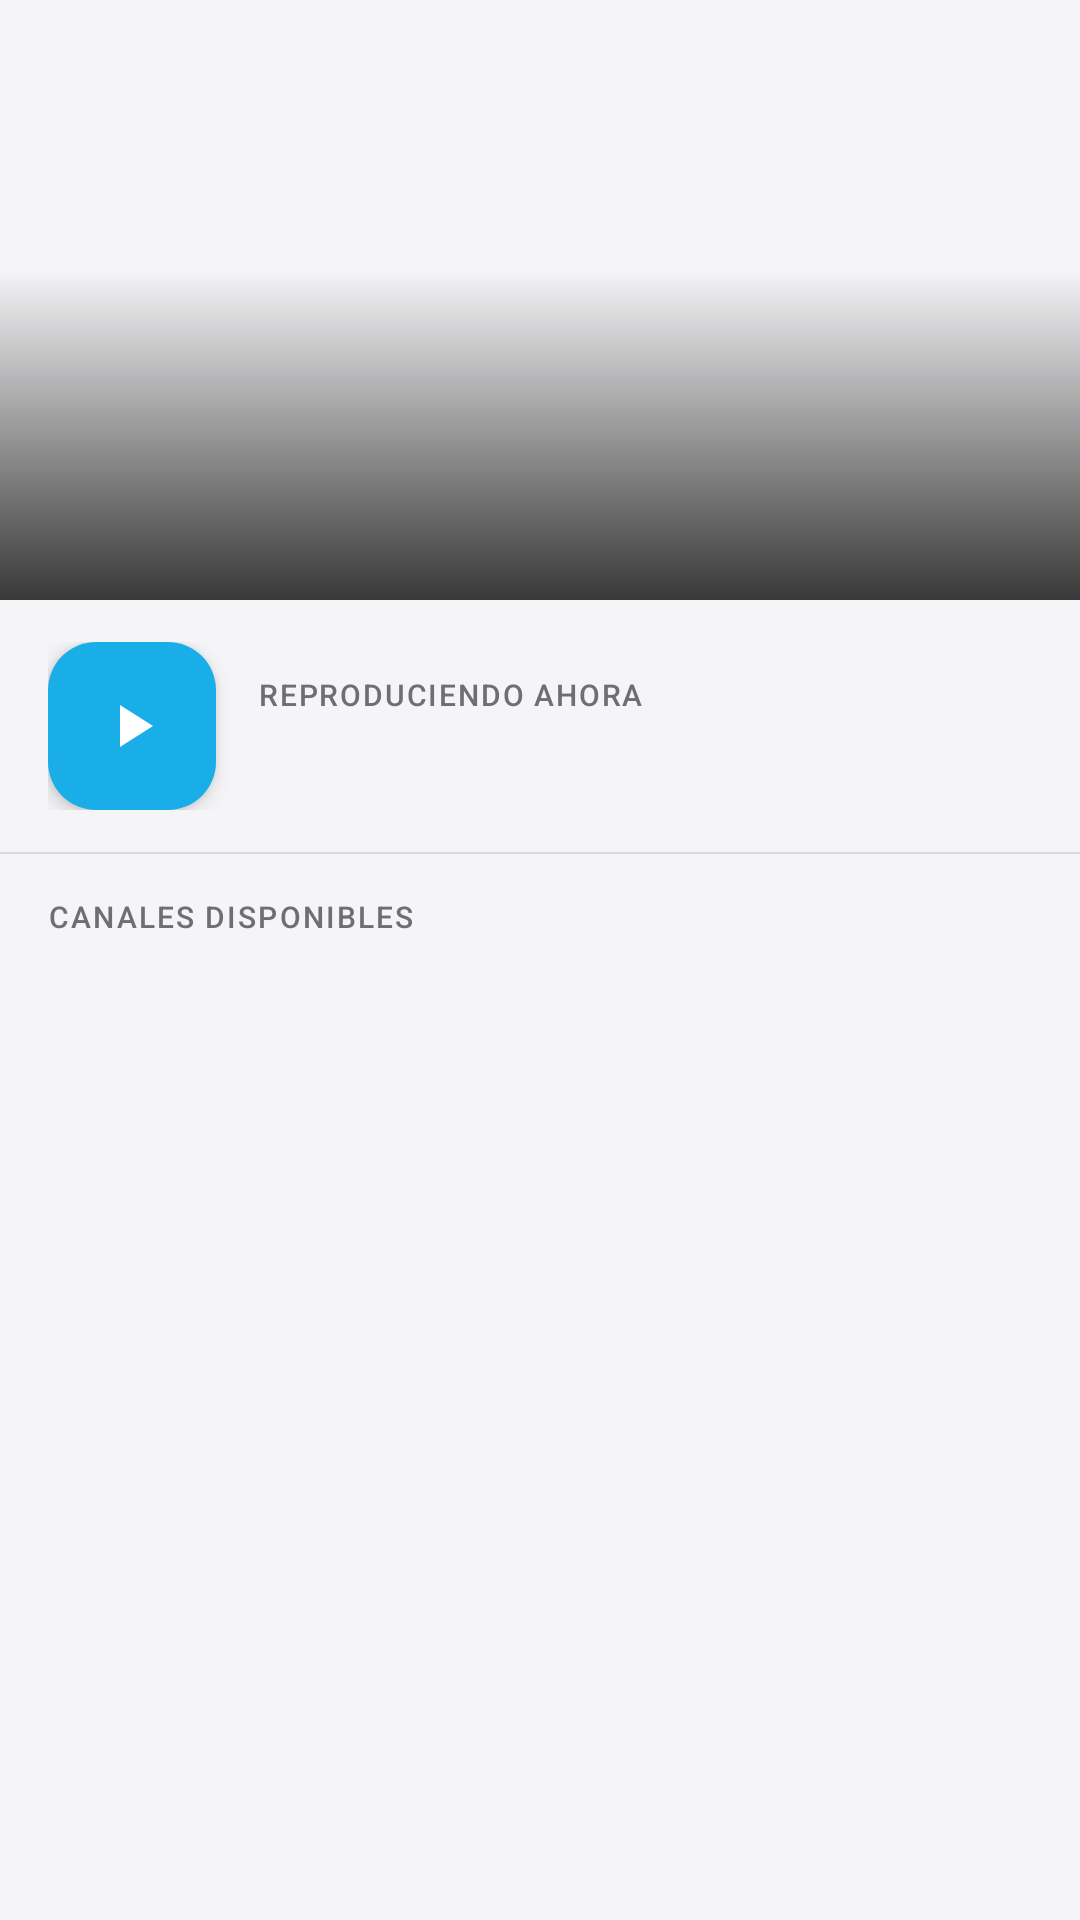

Where icons sit on this 1080 × 1920 app screen, as box(x1, y1, x2, y2):
Play / Pause: box(48, 642, 216, 810)
